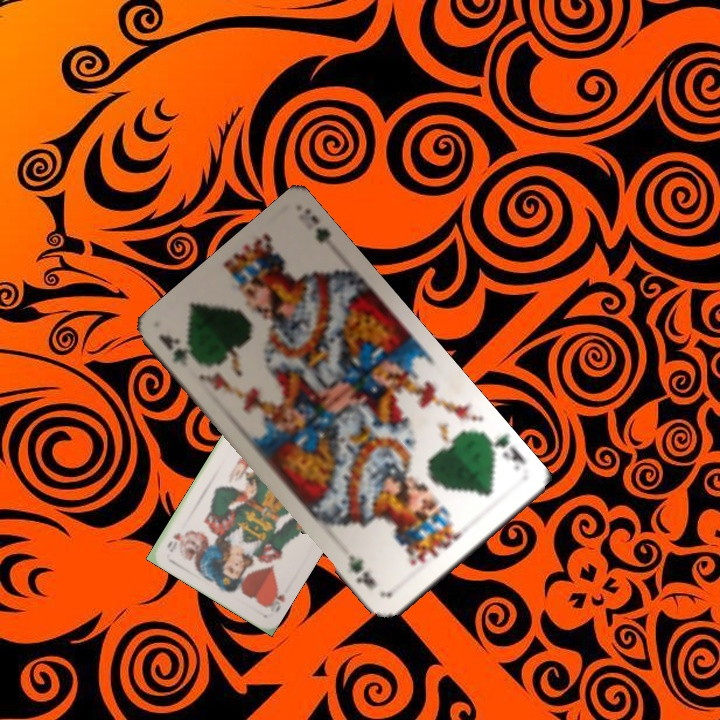GK: (483, 431, 529, 474), (155, 330, 191, 371)
HO: (262, 584, 288, 615)
